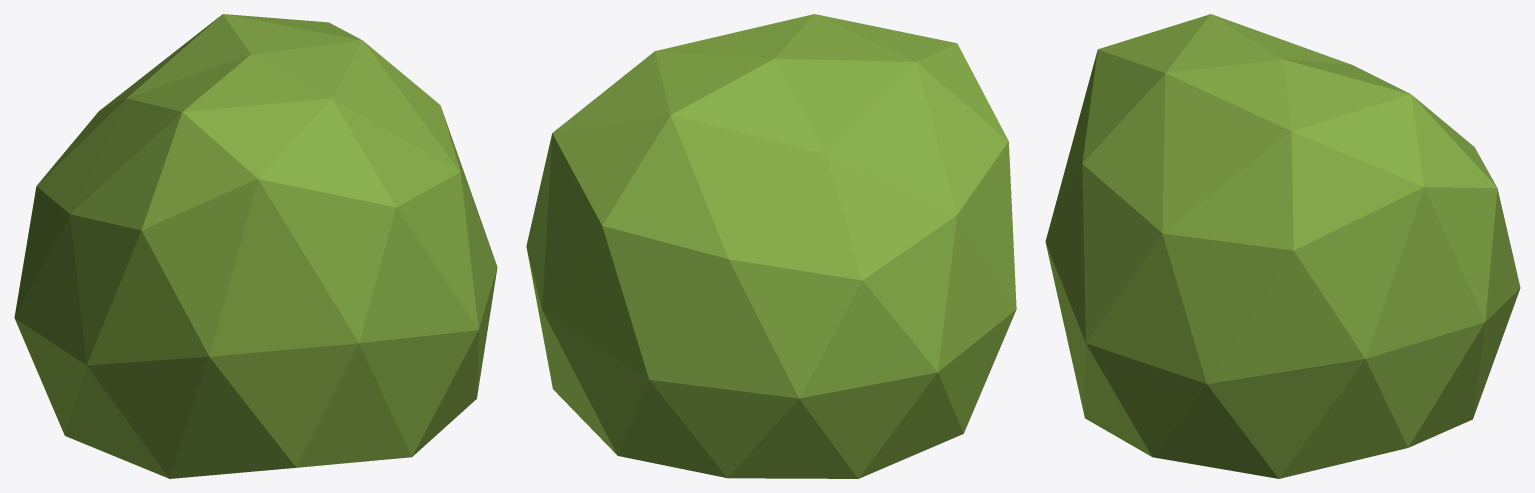
File: Bush_02.glb
3 renders of one model, left to right at view 1: azimuth 30°, elevation 25°; view 2: azimuth 150°, elevation 25°; view 3: azimuth 270°, elevation 25°, orthographic. The views are drawn at different scales.
Visible parts, largest first — view 1: Bush_02_LOD0; view 2: Bush_02_LOD0; view 3: Bush_02_LOD0.
Part boxes in pixels (box(x1,y1,x2,y2)): Bush_02_LOD0: box(14, 14, 497, 478); Bush_02_LOD0: box(526, 14, 1016, 478); Bush_02_LOD0: box(1045, 14, 1520, 478).
Size of what is drawn, in the model's own units: 0.5714 by 0.4802 by 0.5906.
1 material, 1 textured.
